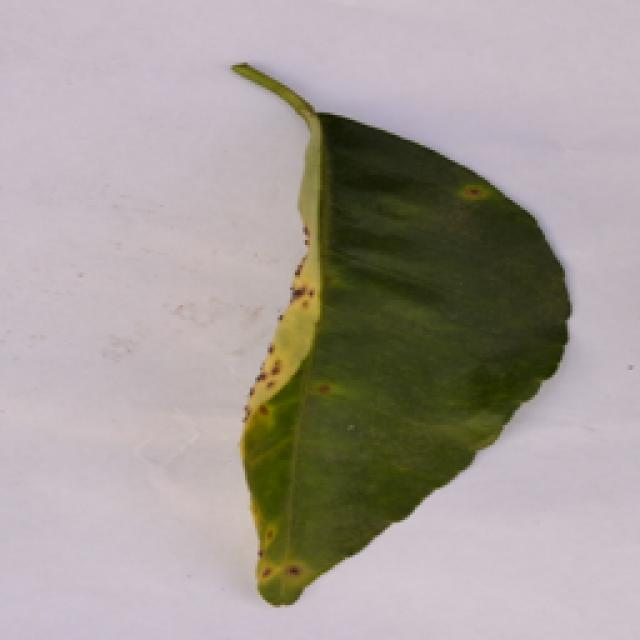canker: (208, 140, 534, 614)
